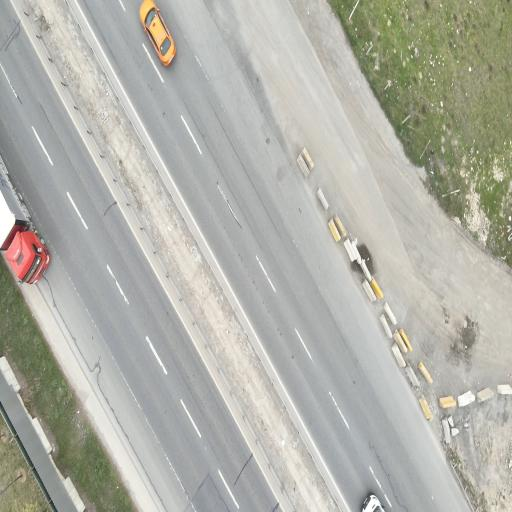car: (140, 0, 175, 65), (363, 494, 383, 511)
truck: (0, 157, 50, 283)
